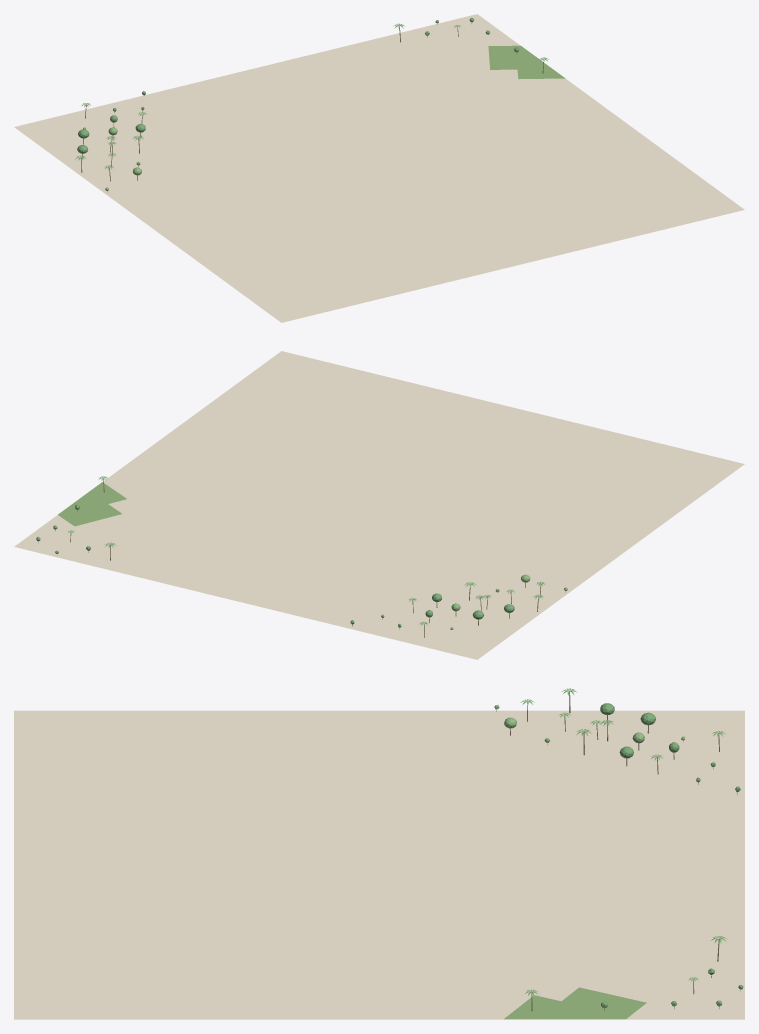
Rendered from nature_1_-7.glb.
3 renders of one model, top to bottom at view 1: azimuth 30°, elevation 25°; view 2: azimuth 150°, elevation 25°; view 3: azimuth 270°, elevation 25°, orthographic. The views are drawn at different scales.
Visible parts, largest first — view 1: ground, grass; view 2: ground, grass; view 3: ground, grass, foliage_a, palm_leaf.
Part boxes in pixels (x1,y1,x2,y2): ground: [14, 14, 744, 322]; grass: [488, 45, 565, 79]; ground: [14, 351, 744, 659]; grass: [58, 482, 126, 526]; ground: [14, 710, 744, 1019]; grass: [504, 987, 646, 1019]; foliage_a: [544, 703, 743, 1007]; palm_leaf: [520, 688, 726, 996].
Bounding box in the file's own units: 251 × 8.86 × 250.
